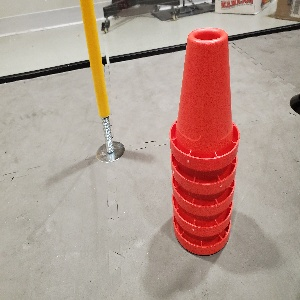Red_5: (163, 24, 242, 258)
